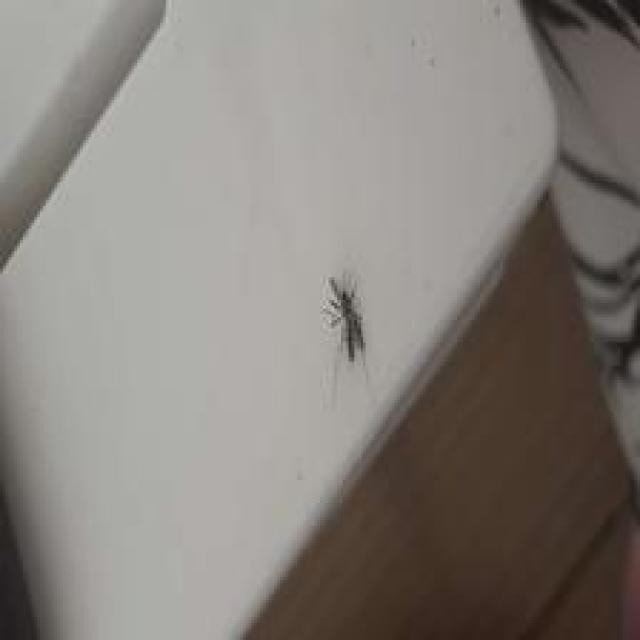Aedes albopictus: (322, 271, 367, 363)
